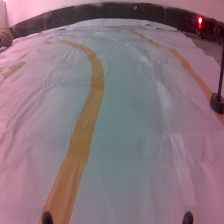red: (194, 13, 224, 113)
